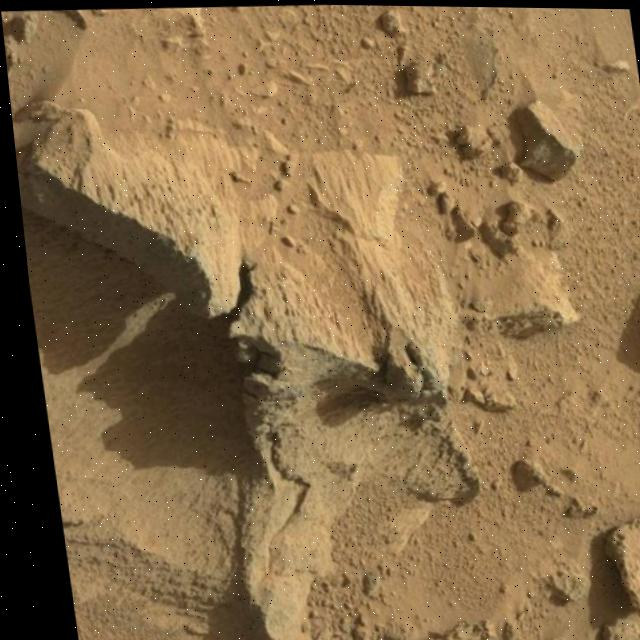mars-rocks: (512, 80, 579, 180), (593, 513, 640, 609)
